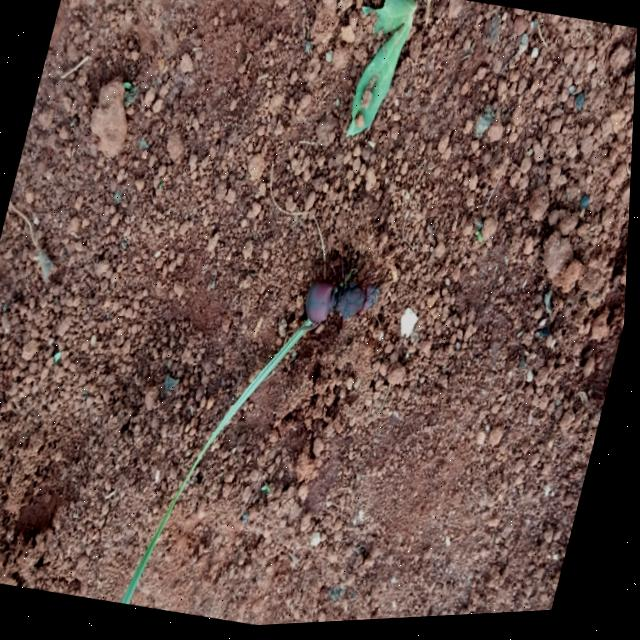Alive-Female-Dealate: (300, 250, 400, 350)
